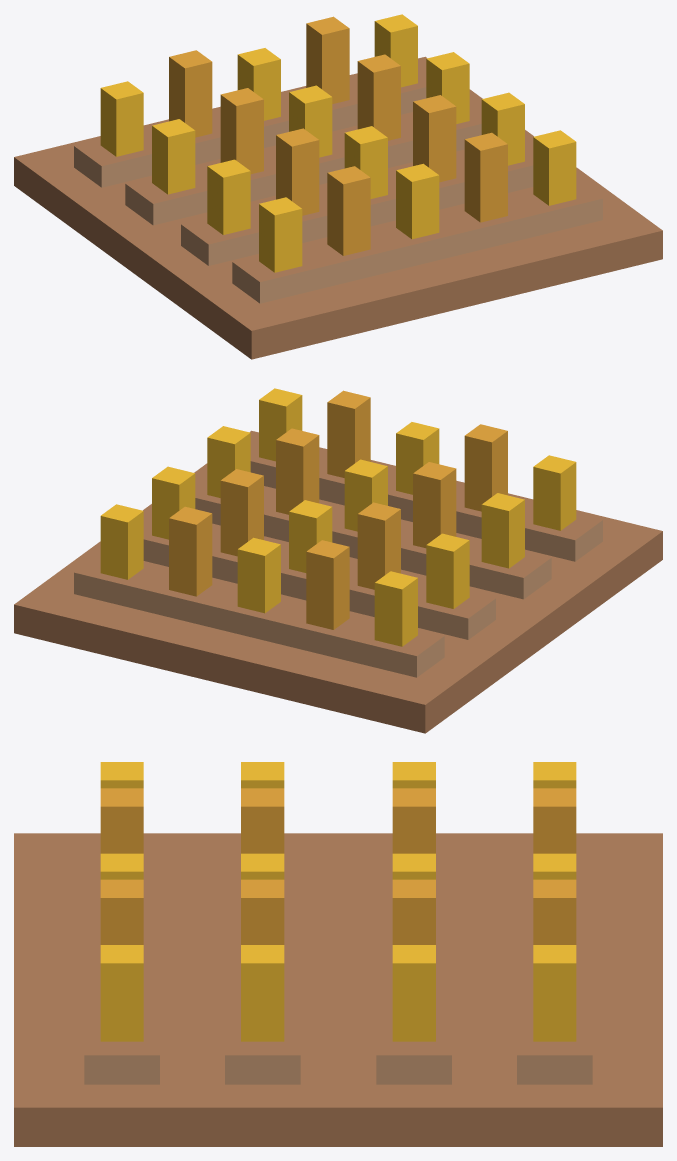
File: field_t1_v1.glb
3 views of the same model, one above another, from view 1: azimuth 30°, elevation 25°; view 2: azimuth 150°, elevation 25°; view 3: azimuth 270°, elevation 25° (orthographic). The views are drawn at different scales.
Parts seen in each view (by area): view 1: field_t1_v1; view 2: field_t1_v1; view 3: field_t1_v1.
Part boxes in pixels (x1,y1,x2,y2): field_t1_v1: (14,14,662,359); field_t1_v1: (14,388,662,733); field_t1_v1: (14,762,662,1146).
Bounding box in the file's own units: 0.6 × 0.17 × 0.6.
1 material, 1 textured.
